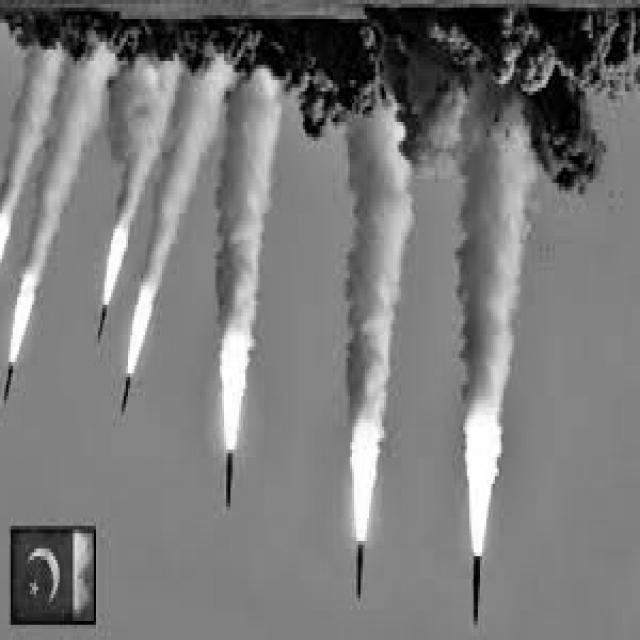Missile: (470, 551, 483, 635), (222, 446, 236, 518), (95, 295, 110, 351), (117, 368, 131, 426), (354, 535, 365, 607), (2, 359, 14, 411)
